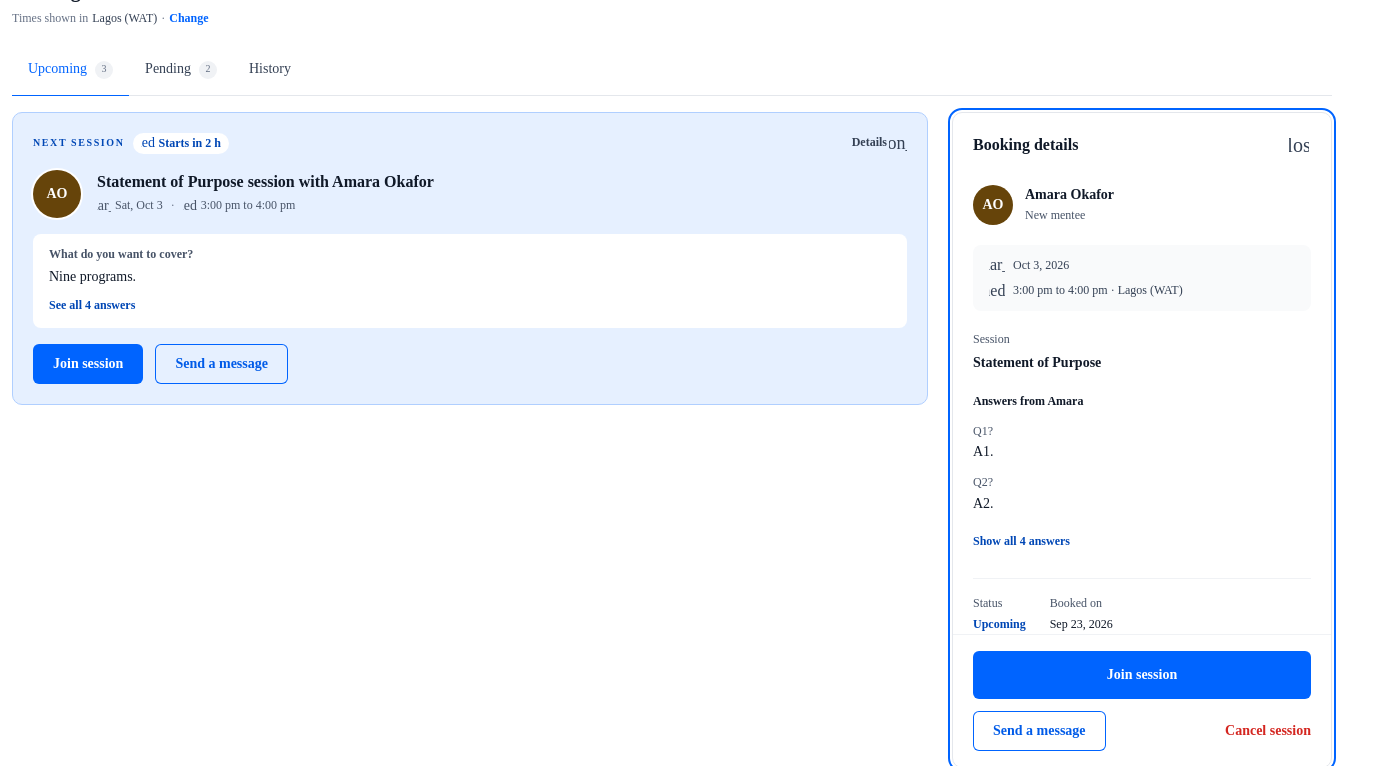
Scenario: the answers preview on the rows › the hero link opens the panel expanded, like the rows
(page scrolled)
Step 1. Click the button "See all 4 answers" → (92, 306), box [49, 296, 135, 316]
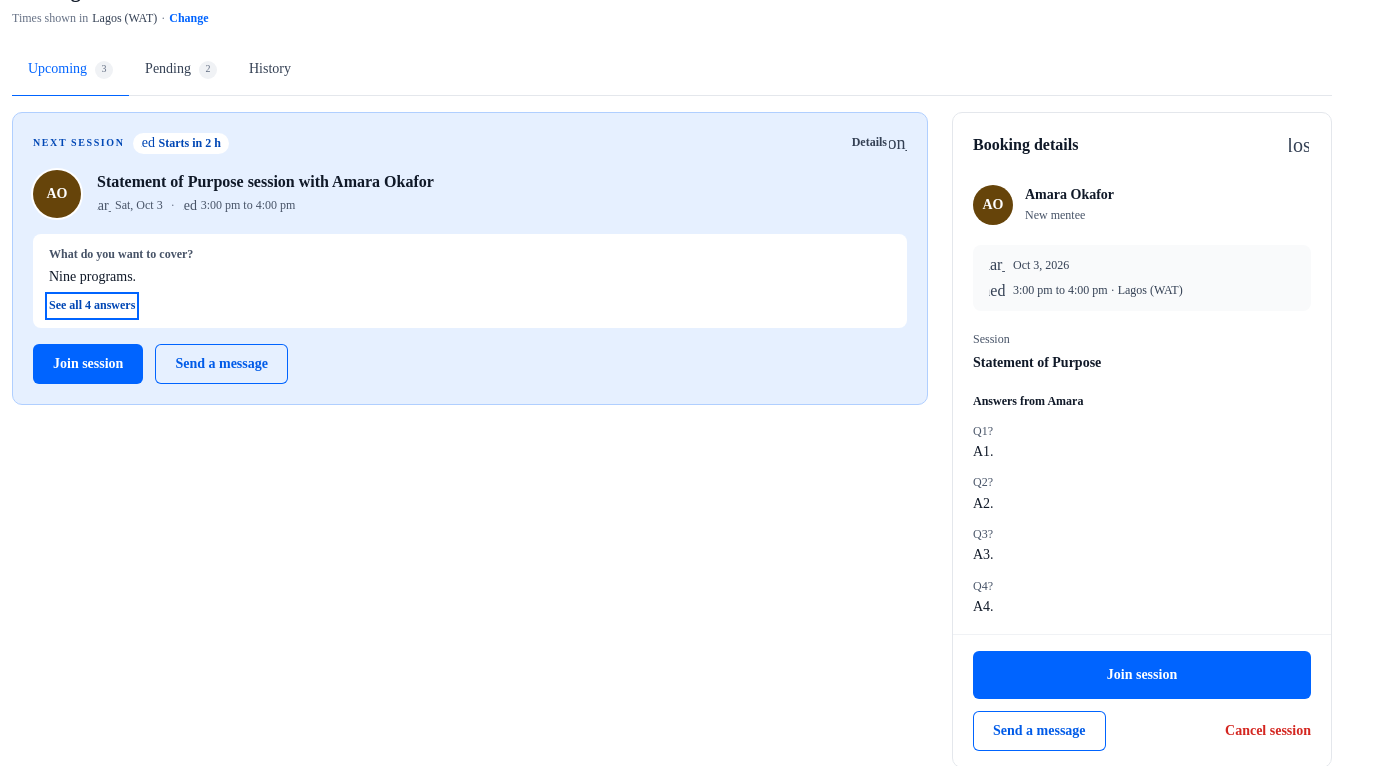
Expected: the text "A4." is shown, [973, 599, 994, 614]
